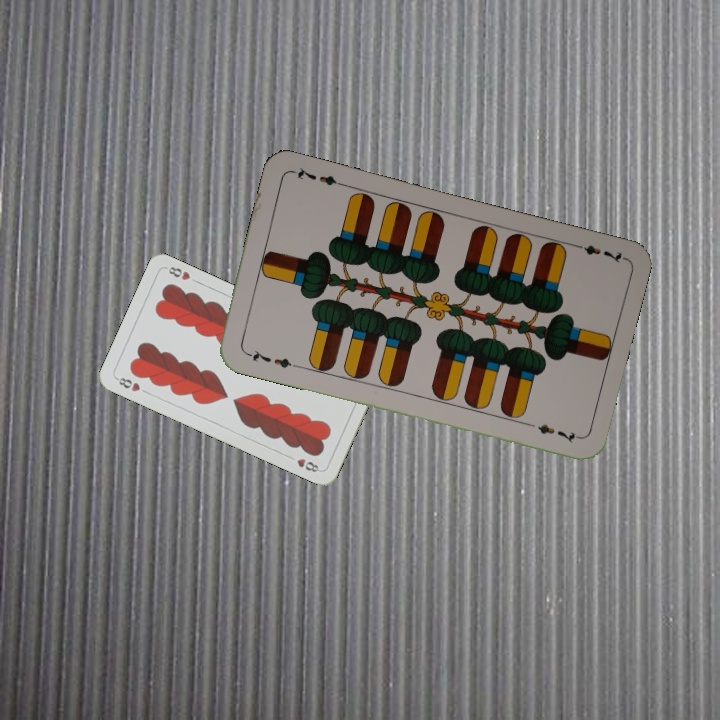E7: (569, 239, 627, 266), (241, 347, 299, 371)
H8: (112, 373, 143, 394)
